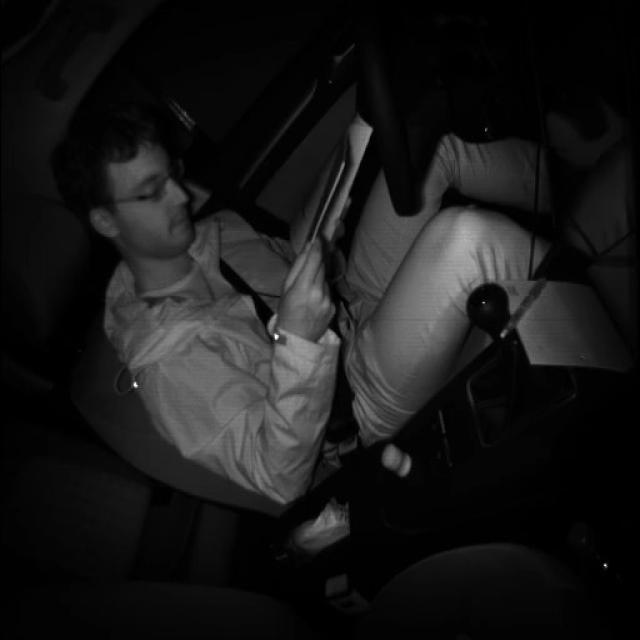pen: (498, 276, 548, 341)
